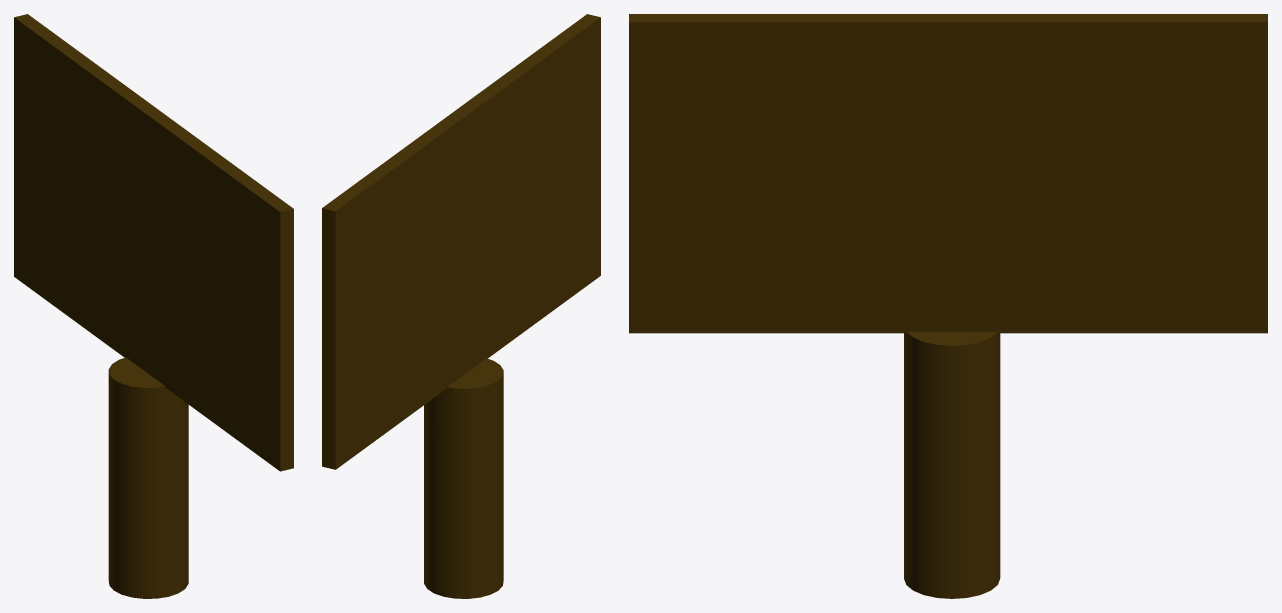
The model's file is sign.fbx.
3 renders of one model, left to right at view 1: azimuth 30°, elevation 25°; view 2: azimuth 150°, elevation 25°; view 3: azimuth 270°, elevation 25°, orthographic. The views are drawn at different scales.
Parts seen in each view (by area): view 1: pCylinder2; view 2: pCylinder2; view 3: pCylinder2.
Part boxes in pixels (x1,y1,x2,y2): pCylinder2: (14,14,293,598); pCylinder2: (322,14,600,598); pCylinder2: (629,14,1267,598).
Bounding box in the file's own units: 0.8495 × 5.48 × 5.63.
